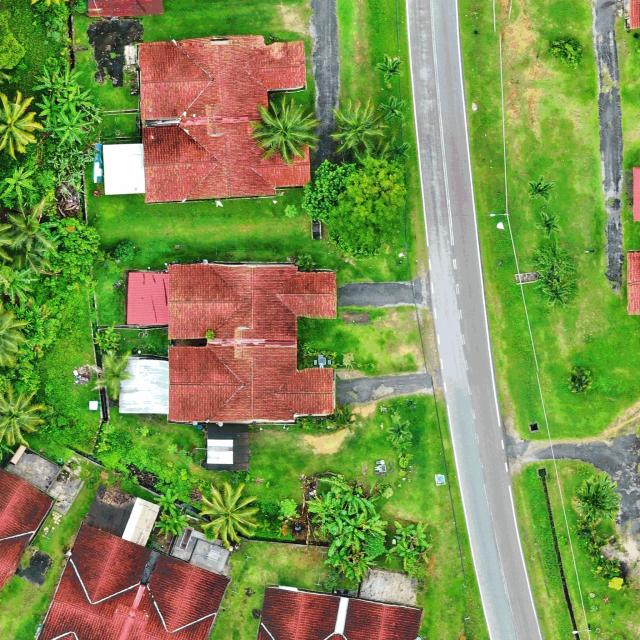0: (248, 93, 320, 165), (197, 481, 261, 548), (327, 98, 388, 159), (7, 196, 60, 259), (0, 89, 44, 163), (0, 385, 48, 447), (91, 351, 134, 401), (0, 305, 28, 367)
banana_tree2: (326, 512, 366, 557), (388, 521, 431, 557), (0, 266, 39, 304), (53, 110, 94, 146), (305, 491, 347, 525), (0, 166, 35, 203), (32, 64, 67, 100), (53, 84, 94, 113), (35, 92, 65, 125), (154, 512, 189, 539), (340, 491, 377, 516), (56, 67, 84, 97), (154, 488, 178, 512), (356, 554, 376, 576)
tree: (301, 158, 406, 262), (531, 243, 577, 308), (572, 472, 621, 517), (548, 36, 583, 70), (375, 54, 404, 82), (377, 94, 404, 124), (528, 175, 556, 202), (534, 212, 561, 240), (386, 419, 414, 445), (568, 365, 593, 394)
